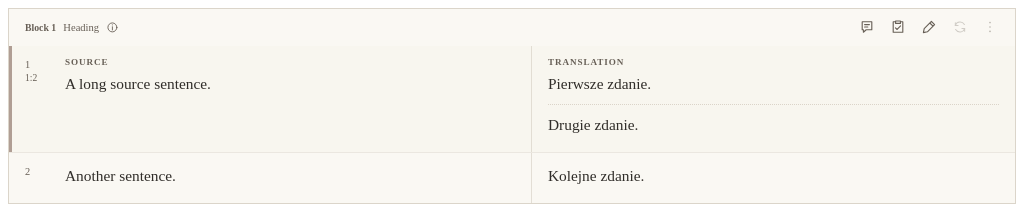
Test: BlockCard contextual annotations › reviews sentence splits and merges as focusable groups before opening the block editor
This screenshot has width=1024, height=221.
Expected: the picture named "Model-reported pairing" is shown, [106,21,119,34]
Expected: the button "Pierwsze zdanie." is shown, [548,72,651,97]
Press ArrowDown in the row named "Block 1, alignment group 1", box [9,46,1015,152]
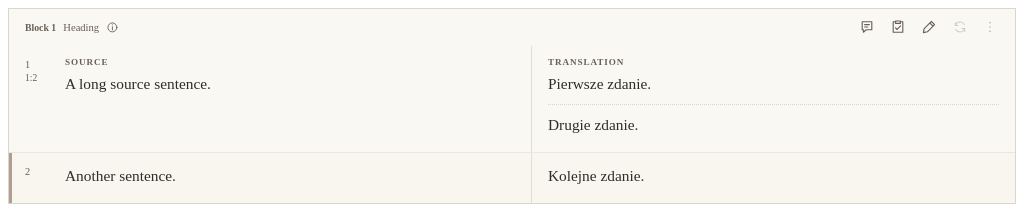
Click the button named "Edit or annotate block" at (929, 27), box [914,13,943,42]
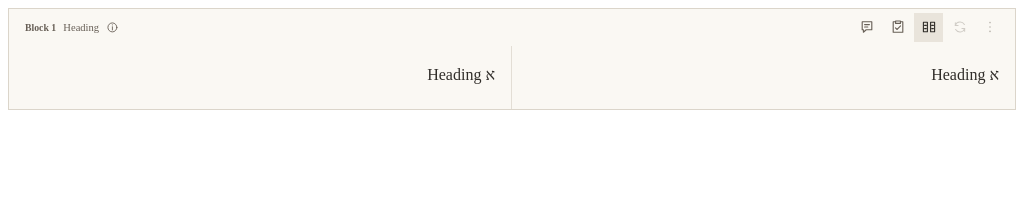
Now the element with test id "source-target-comparison" is shown, box [9,46,1015,109]
Now the button named "Return to sentence groups" is shown, box [914,13,943,42]
